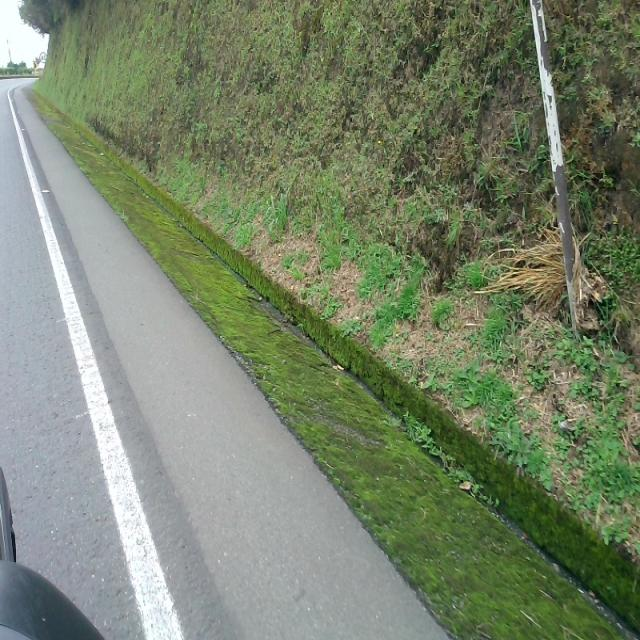DITCH: (3, 46, 637, 638), (8, 75, 638, 638)
